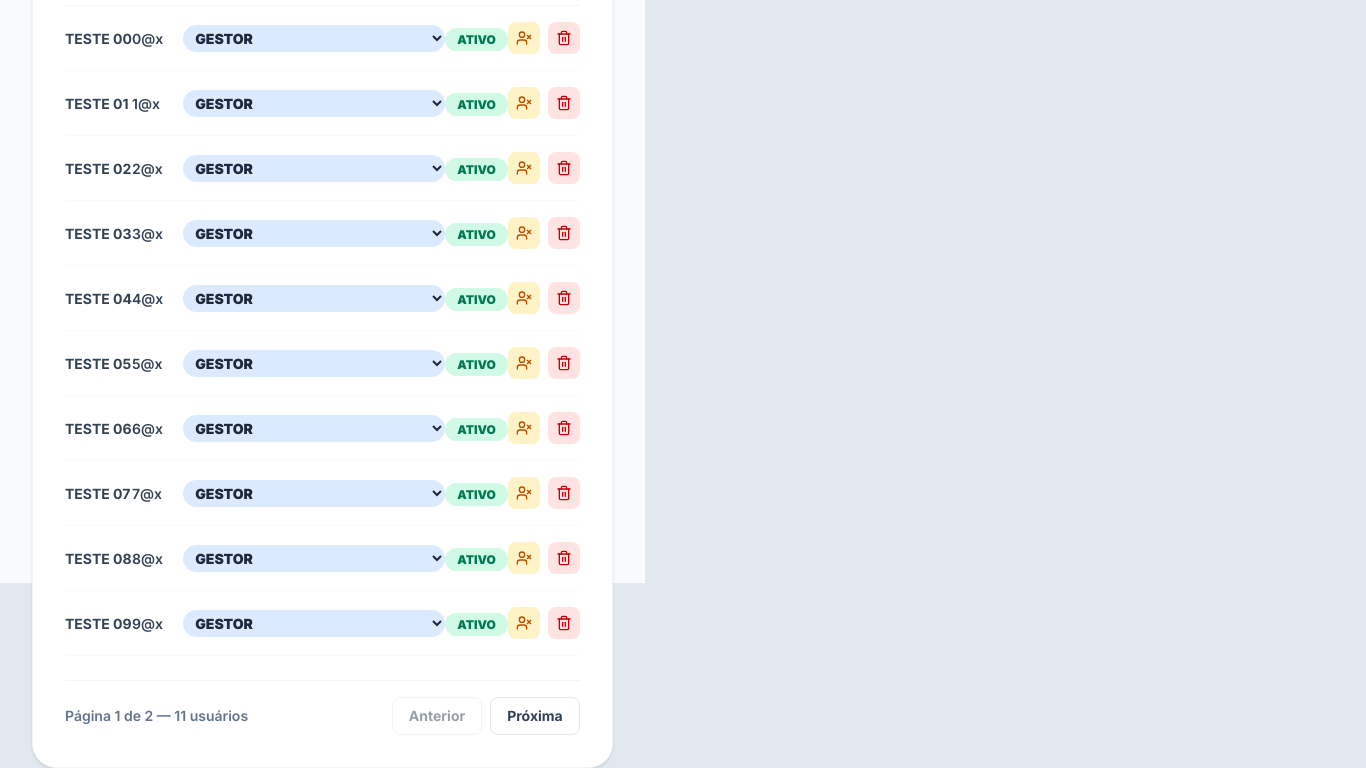
Test: Usuários — revisão da aba 8 › U6: excluir o único da última página volta para a página anterior
(page scrolled)
Expected: the text "TESTE 00" is shown, [65,6,132,71]
Click the button "Próxima" at (535, 716), box [490,697,580,735]
(page scrolled)
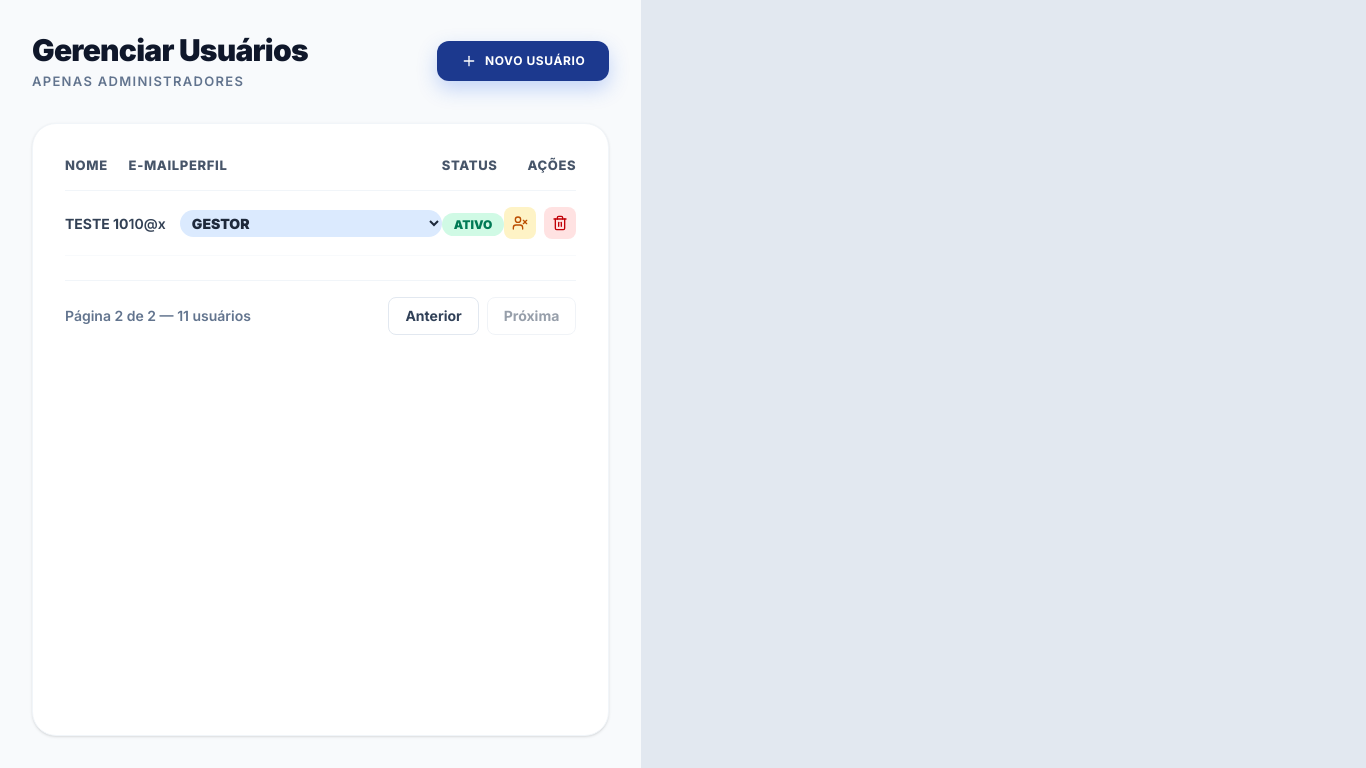
Click the button named "Excluir TESTE 10" at (560, 223), box [544,207,576,239]
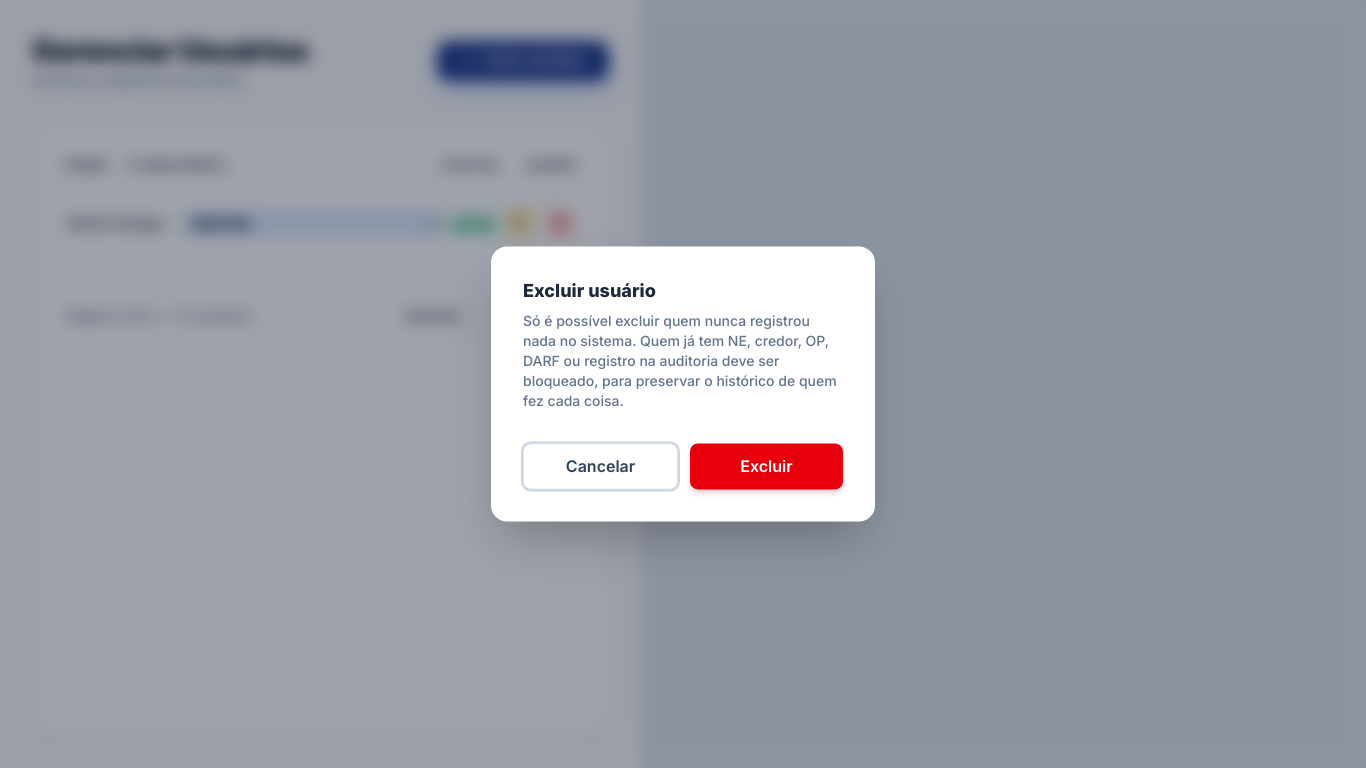
Click the button "Excluir" at (766, 467), box [690,444,843,490]
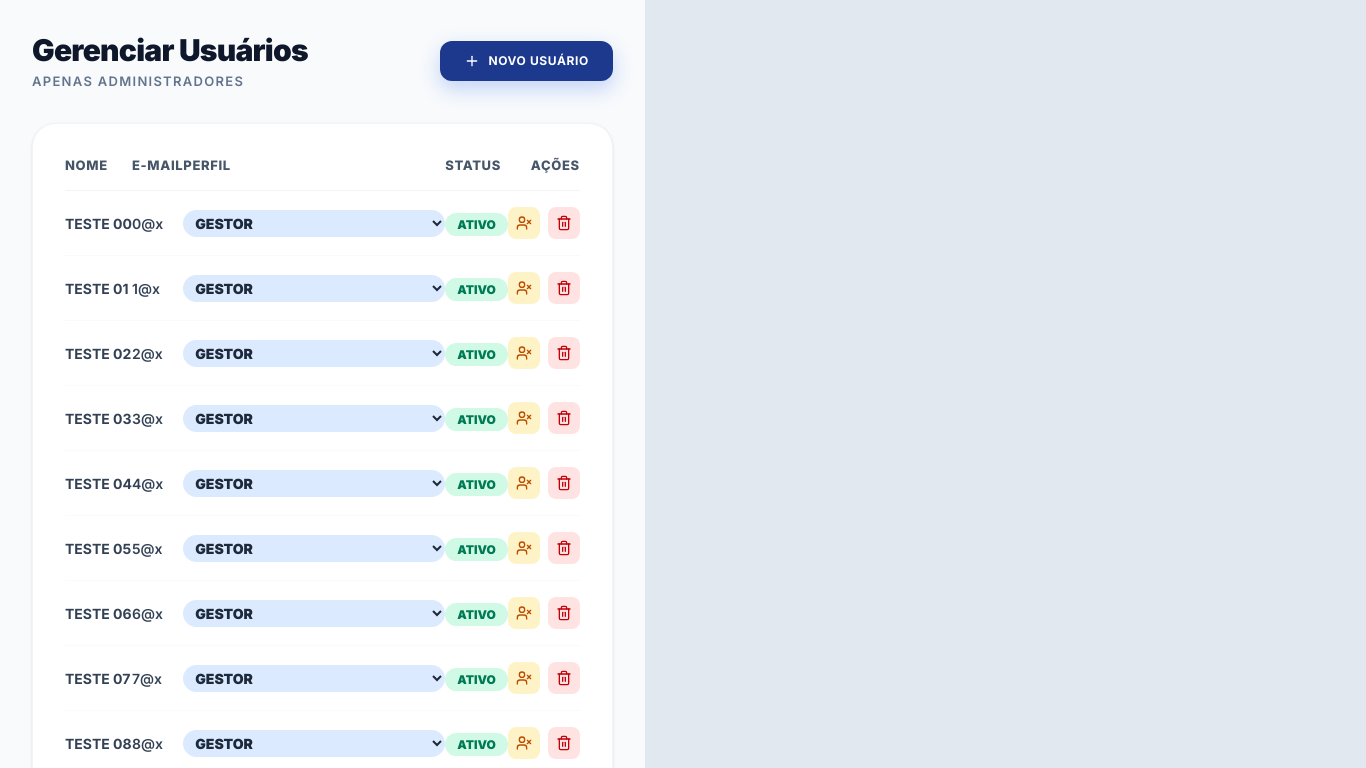
Expected: the text "TESTE 00" is shown, [65,191,132,256]
Expected: the text "TESTE 10" is gone
